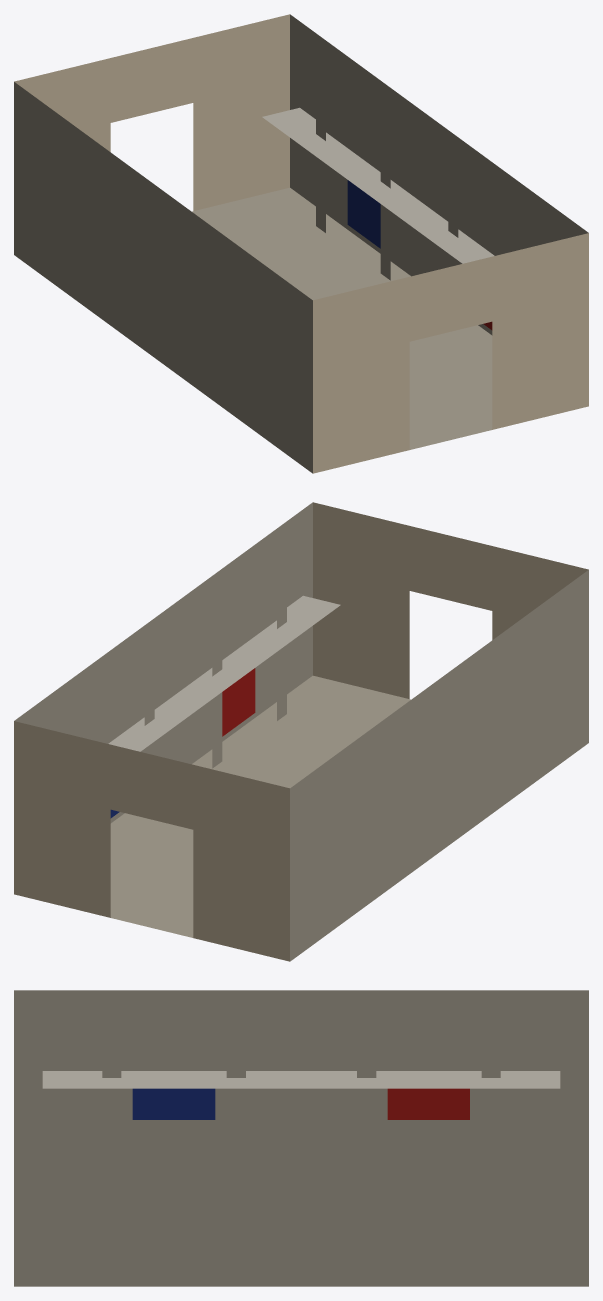
Rendered from sponza.obj.
The picture shows the model from 3 angles, top to bottom: view 1: azimuth 30°, elevation 25°; view 2: azimuth 150°, elevation 25°; view 3: azimuth 270°, elevation 25°; orthographic projection. The views are drawn at different scales.
Parts seen in each view (by area): view 1: Sponza_Lite_Textured_Atrium; view 2: Sponza_Lite_Textured_Atrium; view 3: Sponza_Lite_Textured_Atrium.
Boxes of the visible parts, bbox=[...] form: Sponza_Lite_Textured_Atrium: bbox=[14, 14, 588, 473]; Sponza_Lite_Textured_Atrium: bbox=[14, 502, 588, 961]; Sponza_Lite_Textured_Atrium: bbox=[14, 990, 588, 1286].
Bounding box in the file's own units: 8 × 4.8 × 15.
